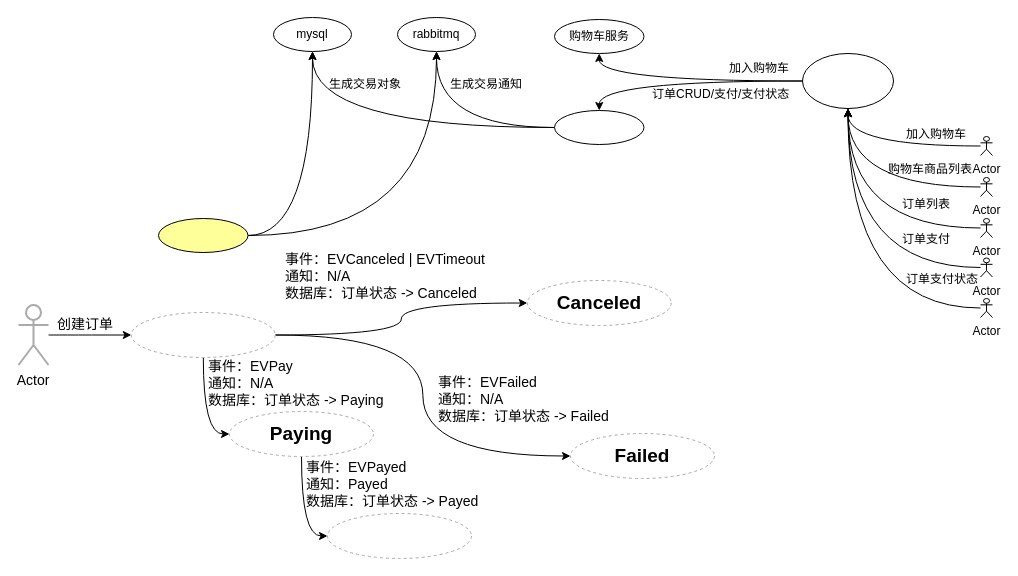
Some shapes in this 1018 by 576 pixel diagram are drawn without their labels. The shapes that lost their labels are listed below. From the top down, each one's centre as x and y in pixels, then its label:
At [848,80]: "API网关".
At [599,127]: "订单服务".
At [203,235]: "交易服务".
At [202,335]: "Created".
At [399,535]: "Payed".
